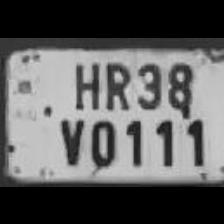0: (86, 112, 118, 166)
1: (178, 112, 209, 166), (118, 112, 148, 166), (148, 112, 176, 166)
3: (132, 57, 164, 110)
8: (164, 57, 196, 116)
H: (66, 54, 102, 108)
R: (100, 57, 132, 110)
V: (54, 112, 85, 166)
